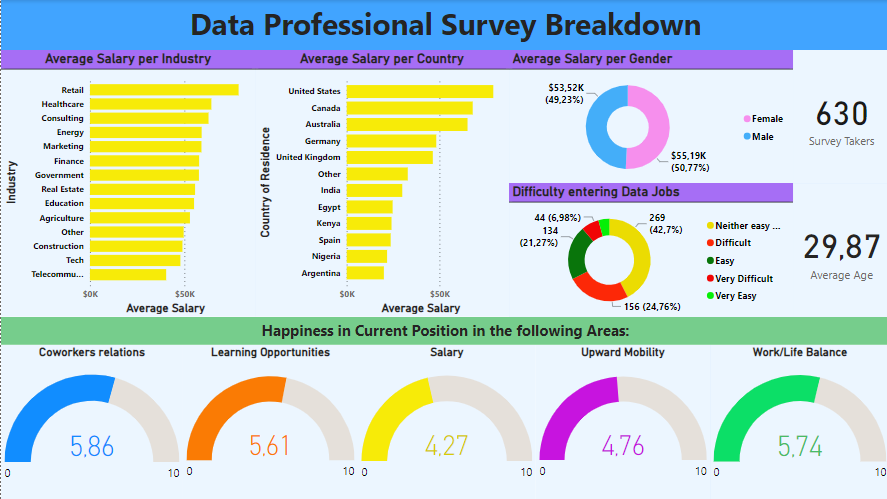

This screenshot's page, from the dashboard's own definition file:
{"tool":"powerbi","page":{"name":"Pagina 2","canvas":[1280,720],"ordinal":1},"visuals":[{"type":"clusteredBarChart","fields":{"Category":["Data Professional Survey.Q4 - What Industry do you work in?.1"],"Y":["Avg(Data Professional Survey.Average Salary)"]},"box":[0,72,365.8,384.5],"z":0},{"type":"donutChart","title":"Average Salary per Gender","fields":{"Category":["Data Professional Survey.Q9 - Male/Female?"],"Y":["Avg(Data Professional Survey.Average Salary)"]},"box":[731.5,72,409,193],"z":1000},{"type":"gauge","title":"Coworkers relations","fields":{"Y":["Avg(Data Professional Survey.Q6 - How Happy are you in your Current Position with the following? (Coworkers))"],"MinValue":["Min(Data Professional Survey.Q6 - How Happy are you in your Current Position with the following? (Coworkers))"],"MaxValue":["Max(Data Professional Survey.Q6 - How Happy are you in your Current Position with the following? (Coworkers))"]},"box":[0,496.8,262.1,223.2],"z":2000},{"type":"gauge","title":"Learning Opportunities","fields":{"Y":["Avg(Data Professional Survey.Q6 - How Happy are you in your Current Position with the following? (Learning New Things))"],"MinValue":["Min(Data Professional Survey.Q6 - How Happy are you in your Current Position with the following? (Learning New Things))"],"MaxValue":["Max(Data Professional Survey.Q6 - How Happy are you in your Current Position with the following? (Learning New Things))1"]},"box":[262.1,496.8,252,223.2],"z":3000},{"type":"gauge","title":"Salary","fields":{"Y":["Avg(Data Professional Survey.Q6 - How Happy are you in your Current Position with the following? (Salary))"],"MaxValue":["Max(Data Professional Survey.Q6 - How Happy are you in your Current Position with the following? (Salary))1"],"MinValue":["Min(Data Professional Survey.Q6 - How Happy are you in your Current Position with the following? (Salary))2"]},"box":[514.1,496.8,256.3,223.2],"z":4000},{"type":"gauge","title":"Upward Mobility","fields":{"Y":["Avg(Data Professional Survey.Q6 - How Happy are you in your Current Position with the following? (Upward Mobility))"],"MinValue":["Min(Data Professional Survey.Q6 - How Happy are you in your Current Position with the following? (Upward Mobility))"],"MaxValue":["Max(Data Professional Survey.Q6 - How Happy are you in your Current Position with the following? (Upward Mobility))"]},"box":[770.4,496.8,250.6,223.2],"z":5000},{"type":"gauge","title":"Work/Life Balance","fields":{"Y":["Avg(Data Professional Survey.Q6 - How Happy are you in your Current Position with the following? (Work/Life Balance))"],"MinValue":["Min(Data Professional Survey.Q6 - How Happy are you in your Current Position with the following? (Work/Life Balance))"],"MaxValue":["Max(Data Professional Survey.Q6 - How Happy are you in your Current Position with the following? (Work/Life Balance))"]},"box":[1021,496.8,259.2,223.2],"z":6000},{"type":"barChart","title":"Average Salary per Country","fields":{"Category":["Data Professional Survey.Q11 - Which Country do you live in?.1"],"Y":["Avg(Data Professional Survey.Average Salary)"]},"box":[365.8,72,365.8,384.5],"z":8000},{"type":"donutChart","title":"Difficulty entering Data Jobs","fields":{"Category":["Data Professional Survey.Q7 - How difficult was it for you to break into Data?"],"Y":["CountNonNull(Data Professional Survey.Unique ID)"]},"box":[731.5,263.5,409,193],"z":9000},{"type":"card","fields":{"Values":["CountNonNull(Data Professional Survey.Unique ID)"]},"box":[1140.5,72,139.7,191.5],"z":9001},{"type":"textbox","box":[0,456.5,1280.2,40.3],"z":9003},{"type":"textbox","box":[0,0,1280.2,72],"z":9004},{"type":"card","fields":{"Values":["Avg(Data Professional Survey.Q10 - Current Age)"]},"box":[1140.5,263.5,139.7,193],"z":9006}]}

Visuals, with their boxes in screenshot pixels (x1, y1, x2, y2), scaled from the page's 1280x720 canvas onto the 887x499 screenshot:
clusteredBarChart - Data Professional Survey.Q4 - What Industry do you work in?.1 x Avg(Data Professional Survey.Average Salary): 0:50:253:316
"Average Salary per Gender" donutChart: 507:50:790:184
"Coworkers relations" gauge: 0:344:182:498
"Learning Opportunities" gauge: 182:344:356:498
"Salary" gauge: 356:344:534:498
"Upward Mobility" gauge: 534:344:708:498
"Work/Life Balance" gauge: 708:344:886:498
"Average Salary per Country" barChart: 253:50:507:316
"Difficulty entering Data Jobs" donutChart: 507:183:790:316
card - CountNonNull(Data Professional Survey.Unique ID): 790:50:886:183
textbox: 0:316:886:344
textbox: 0:0:886:50
card - Avg(Data Professional Survey.Q10 - Current Age): 790:183:886:316
